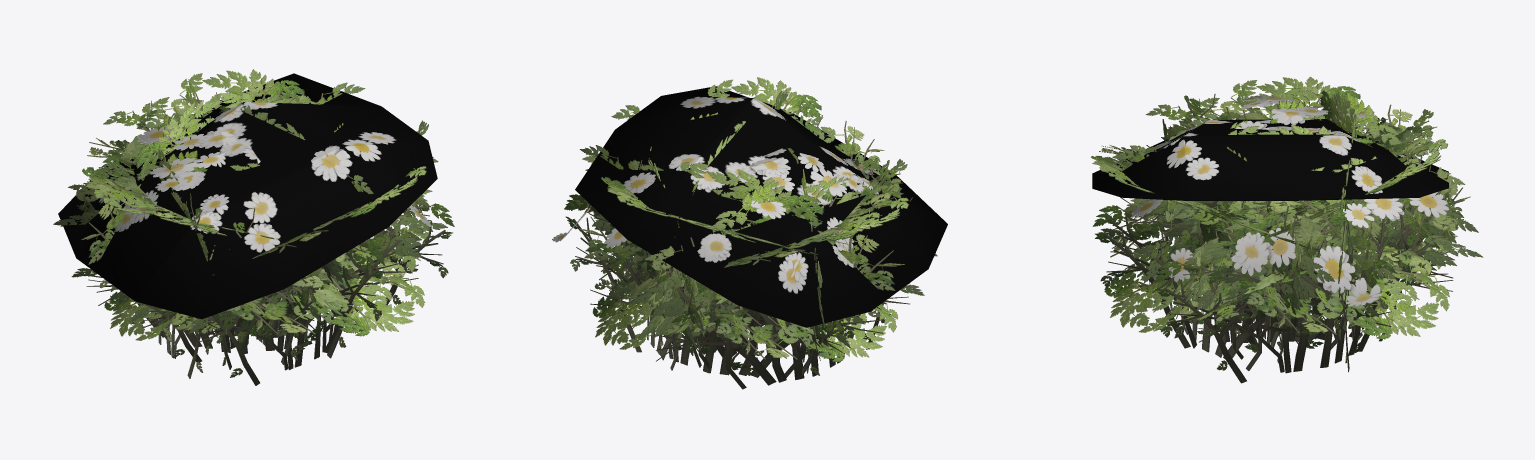
The model's file is bush2.fbx.
3 renders of one model, left to right at view 1: azimuth 30°, elevation 25°; view 2: azimuth 150°, elevation 25°; view 3: azimuth 270°, elevation 25°, orthographic. The views are drawn at different scales.
Visible parts, largest first — view 1: Flowers-04; view 2: Flowers-04; view 3: Flowers-04.
Boxes of the visible parts, x1,y1,x2,y2 form: Flowers-04: (53,69,454,385); Flowers-04: (552,77,947,389); Flowers-04: (1091,76,1483,383).
Size of the model in its own units: 141 by 94.3 by 148.
